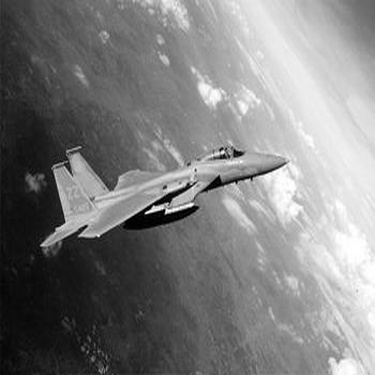airplane: (32, 126, 294, 260)
